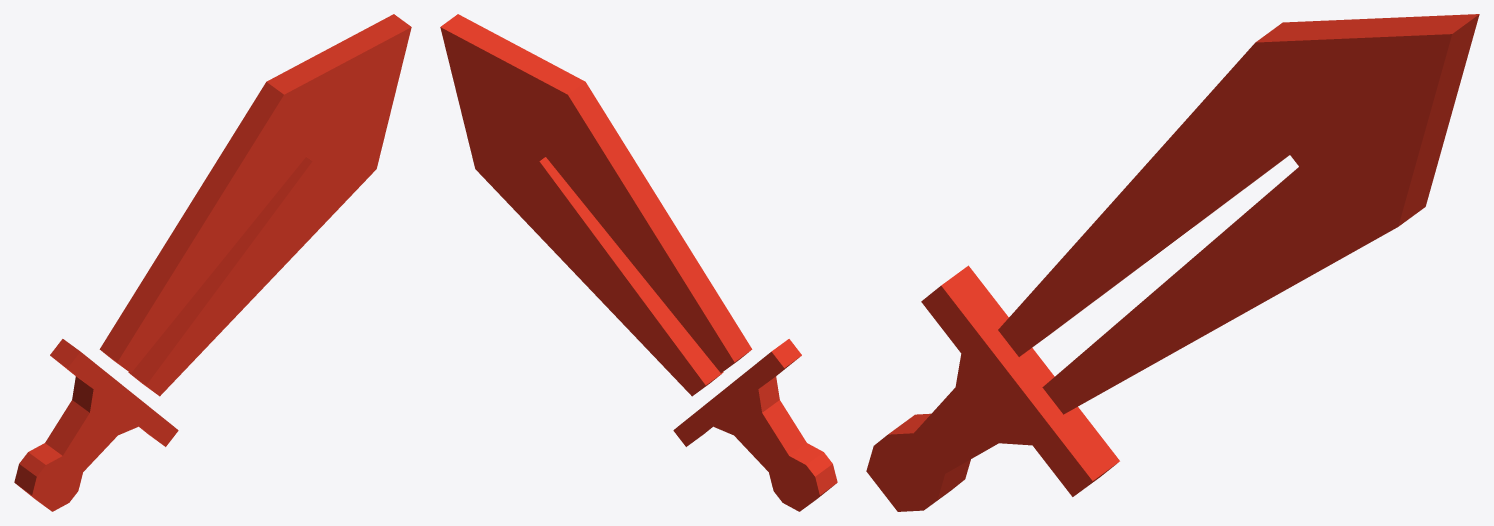
File: Icon_Sword.fbx
3 views of the same model, side by side, from view 1: azimuth 30°, elevation 25°; view 2: azimuth 150°, elevation 25°; view 3: azimuth 330°, elevation 25° (orthographic). The views are drawn at different scales.
Parts seen in each view (by area): view 1: Icon_Sword; view 2: Icon_Sword; view 3: Icon_Sword.
Part boxes in pixels (box(x1,y1,x2,y2)): Icon_Sword: box(14, 14, 411, 511); Icon_Sword: box(440, 14, 837, 511); Icon_Sword: box(866, 14, 1479, 511).
Size of the model in its own units: 79.22 by 79.22 by 6.42.
